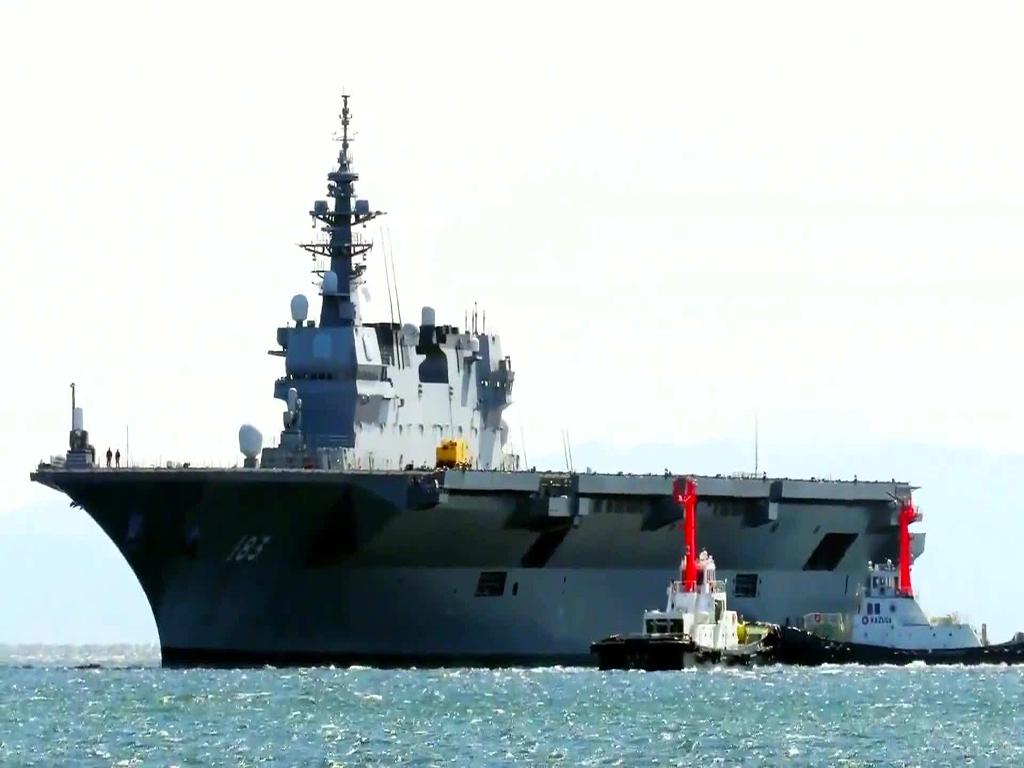Warship: (21, 88, 935, 678)
